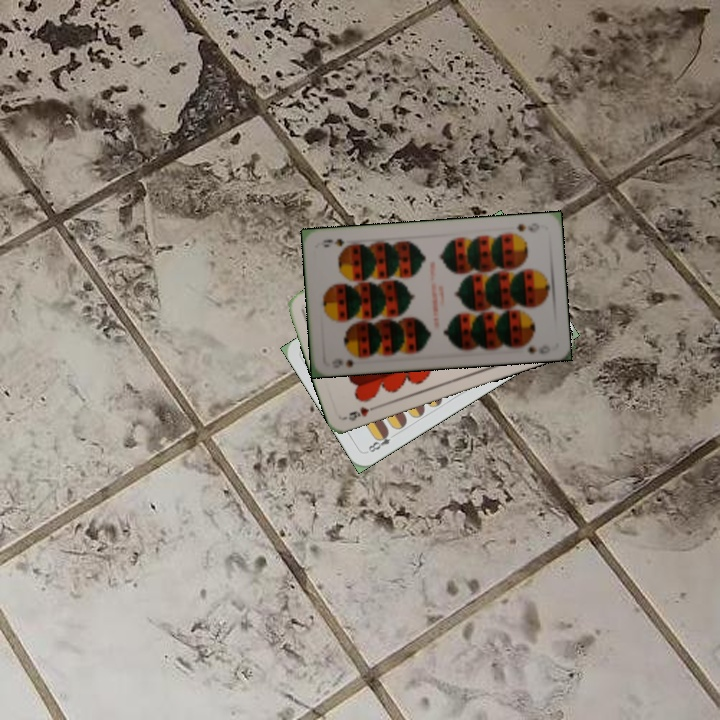E8: (363, 427, 400, 455)
H9: (345, 401, 381, 424)
S9: (342, 350, 366, 370), (512, 219, 542, 235)
